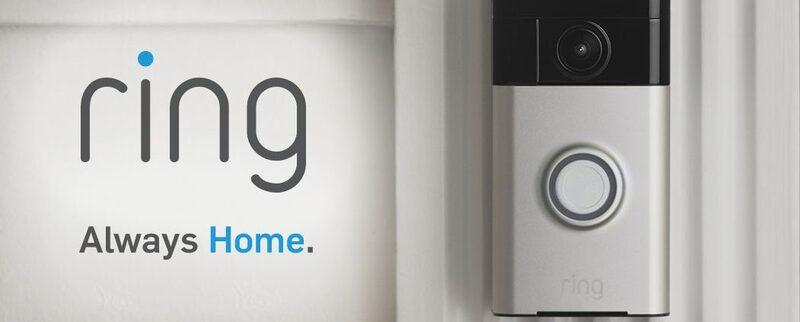doorbell: (490, 7, 669, 311)
